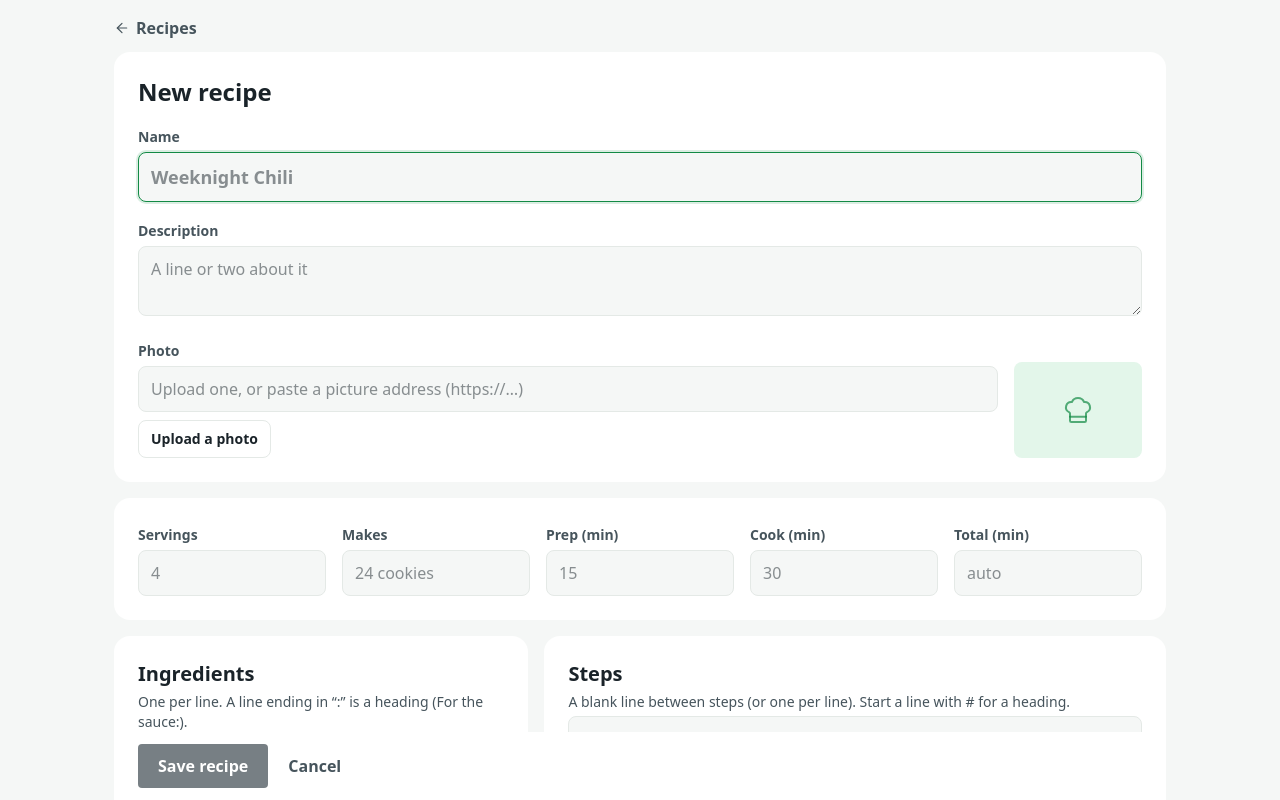
it: adding a recipe by hand › when the server can't be reached, it says so in plain words and you can try again
The image size is (1280, 800).
Type "Pancakes" into the field labelled "Name" at [640, 177], box [138,152,1142,202]
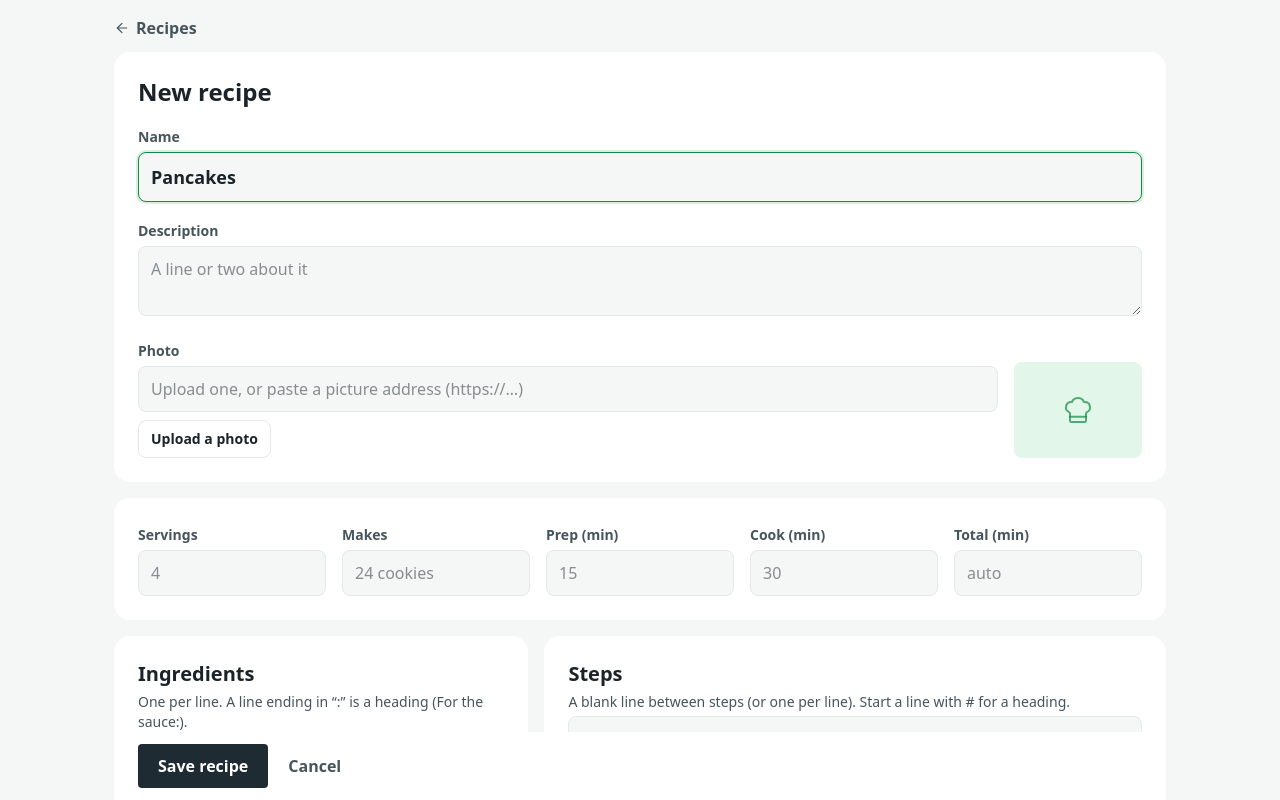
Click the button "Save recipe" at [203, 766], box [138,744,268,788]
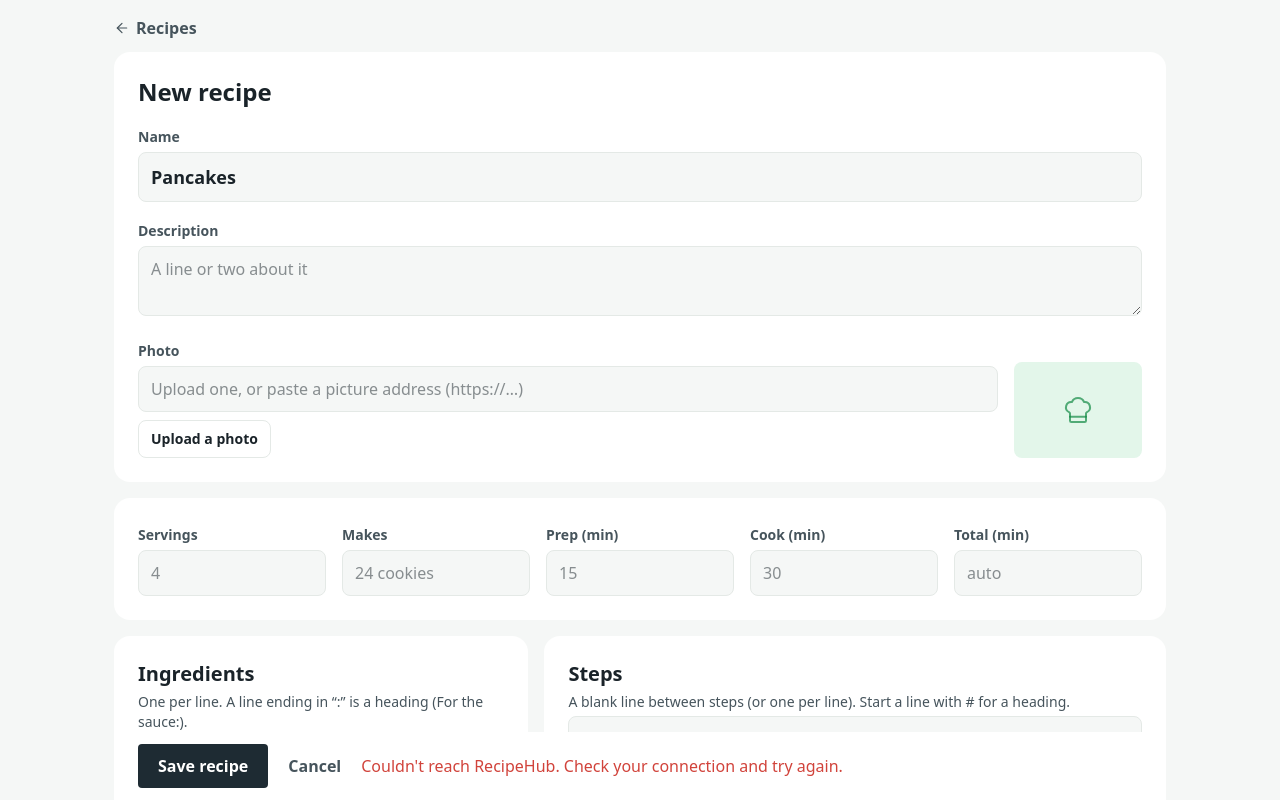
Check: the button "Save recipe" is enabled, box [138,744,268,788]
Check: the text "Couldn't reach RecipeHub. Check your connection and try again." is shown, box [361,754,843,778]
